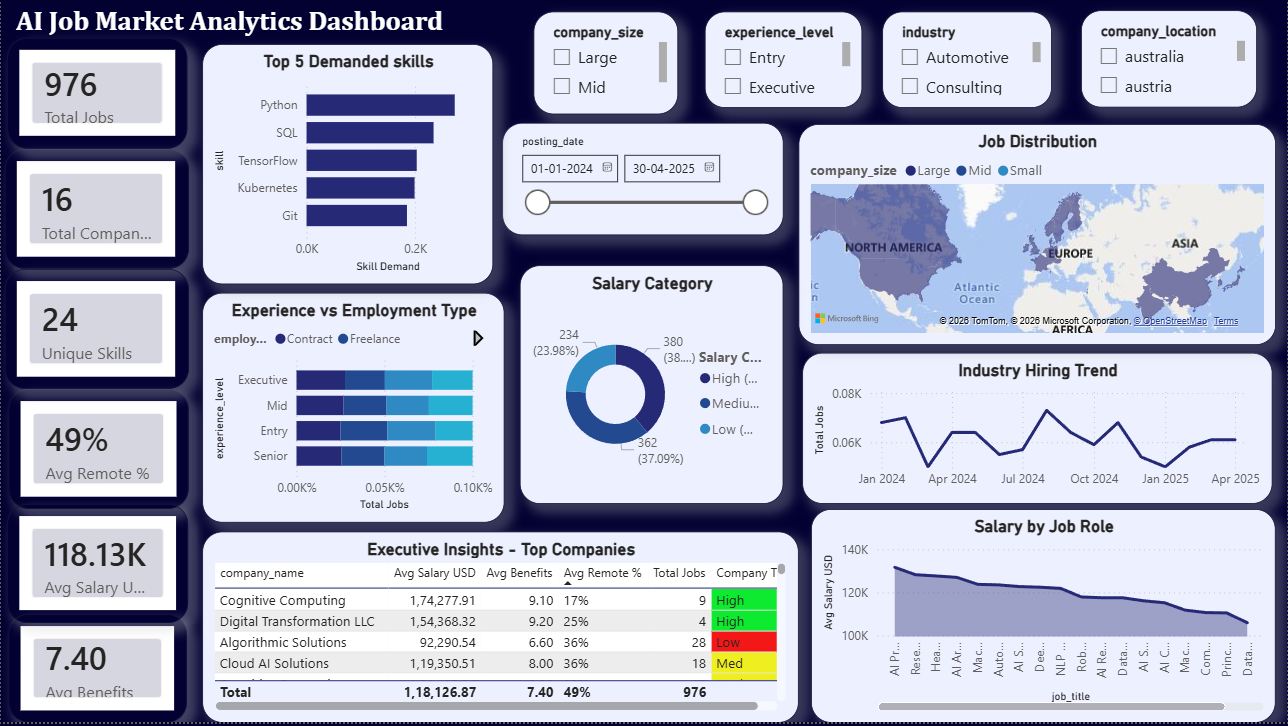

The page's visual inventory and layout, read from the dashboard file:
{"tool":"powerbi","page":{"name":"Page 3","canvas":[1280,720],"ordinal":2},"visuals":[{"type":"textbox","box":[10,0,520,45],"z":0},{"type":"cardVisual","fields":{"Data":["job_market cleaned_jobs.Avg Remote %"]},"box":[7.5,388.1,179.1,119.4],"z":1000},{"type":"cardVisual","fields":{"Data":["job_market cleaned_jobs.Avg Benefits"]},"box":[7.5,612,177.9,108.2],"z":2000},{"type":"cardVisual","fields":{"Data":["job_market cleaned_jobs.Total Companies"]},"box":[3.7,149.3,182.9,119.4],"z":3000},{"type":"cardVisual","fields":{"Data":["job_market cleaned_jobs.Avg Salary USD"]},"box":[6.2,502.6,180.4,118.2],"z":4000},{"type":"cardVisual","fields":{"Data":["job_market cleaned_jobs.Unique Skills"]},"box":[3.7,268.7,182.9,119.4],"z":5000},{"type":"cardVisual","fields":{"Data":["job_market cleaned_jobs.Total Jobs"]},"box":[6.2,38.6,179.1,110.7],"z":6000},{"type":"slicer","fields":{"Values":["job_market dim_location.company_location"]},"box":[1074.8,11.2,175.4,97],"z":7000},{"type":"slicer","fields":{"Values":["job_market dim_job.experience_level"]},"box":[700.3,12.4,156.7,95.8],"z":8000},{"type":"slicer","fields":{"Values":["job_market dim_company.company_size"]},"box":[529.9,12.4,144.3,102],"z":9000},{"type":"slicer","fields":{"Values":["job_market dim_company.industry"]},"box":[877,12.4,169.2,95.8],"z":10000},{"type":"slicer","fields":{"Values":["job_market fact_job_postings.posting_date"]},"box":[498.8,123.2,279.9,112],"z":11000},{"type":"lineChart","title":"Industry Hiring Trend","fields":{"Y":["job_market cleaned_jobs.Total Jobs"],"Category":["job_market cleaned_jobs.posting_date.Variation.Date Hierarchy.Year","job_market cleaned_jobs.posting_date.Variation.Date Hierarchy.Quarter","job_market cleaned_jobs.posting_date.Variation.Date Hierarchy.Month","job_market cleaned_jobs.posting_date.Variation.Date Hierarchy.Day"]},"box":[797.4,352,467.7,150.5],"z":12000},{"type":"hundredPercentStackedBarChart","title":"Experience vs Employment Type","fields":{"Category":["job_market dim_job.experience_level"],"Y":["job_market cleaned_jobs.Total Jobs"],"Series":["job_market cleaned_jobs.employment_type"]},"box":[200.3,292.3,301,228.9],"z":13000},{"type":"filledMap","title":"Job Distribution","fields":{"Category":["job_market dim_location.company_location"],"Series":["job_market dim_company.company_size"]},"box":[793.6,124.4,475.2,220.2],"z":14000},{"type":"clusteredBarChart","title":"Top 5 Demanded skills","fields":{"Category":["job_market dim_skills.skill"],"Y":["job_market cleaned_jobs.Skill Demand"]},"box":[200.3,44.8,289.8,238.8],"z":15000},{"type":"tableEx","title":"Executive Insights - Top Companies","fields":{"Values":["job_market dim_company.company_name","job_market cleaned_jobs.Avg Salary USD","job_market cleaned_jobs.Avg Benefits","job_market cleaned_jobs.Avg Remote %","job_market cleaned_jobs.Total Jobs","job_market cleaned_jobs.Company Tier"]},"box":[200.3,529.9,593.4,190.3],"z":16000},{"type":"areaChart","title":"Salary by Job Role","fields":{"Y":["job_market cleaned_jobs.Avg Salary USD"],"Category":["job_market cleaned_jobs.job_title"]},"box":[806.1,507.5,462.8,212.7],"z":17000},{"type":"donutChart","title":"Salary Category","fields":{"Category":["job_market cleaned_jobs.Salary Category"],"Y":["job_market cleaned_jobs.Total Jobs"]},"box":[516.2,265,262.5,237.6],"z":18000}]}

Visuals, with their boxes in screenshot pixels (x1, y1, x2, y2), scaled from the page's 1280x720 canvas onto the 1288x726 screenshot:
textbox: detection(10, 0, 533, 45)
cardVisual - job_market cleaned_jobs.Avg Remote %: detection(8, 391, 188, 512)
cardVisual - job_market cleaned_jobs.Avg Benefits: detection(8, 617, 187, 725)
cardVisual - job_market cleaned_jobs.Total Companies: detection(4, 151, 188, 271)
cardVisual - job_market cleaned_jobs.Avg Salary USD: detection(6, 507, 188, 626)
cardVisual - job_market cleaned_jobs.Unique Skills: detection(4, 271, 188, 391)
cardVisual - job_market cleaned_jobs.Total Jobs: detection(6, 39, 186, 151)
slicer - job_market dim_location.company_location: detection(1082, 11, 1258, 109)
slicer - job_market dim_job.experience_level: detection(705, 13, 862, 109)
slicer - job_market dim_company.company_size: detection(533, 13, 678, 115)
slicer - job_market dim_company.industry: detection(882, 13, 1053, 109)
slicer - job_market fact_job_postings.posting_date: detection(502, 124, 784, 237)
"Industry Hiring Trend" lineChart: detection(802, 355, 1273, 507)
"Experience vs Employment Type" hundredPercentStackedBarChart: detection(202, 295, 504, 526)
"Job Distribution" filledMap: detection(799, 125, 1277, 347)
"Top 5 Demanded skills" clusteredBarChart: detection(202, 45, 493, 286)
"Executive Insights - Top Companies" tableEx: detection(202, 534, 799, 725)
"Salary by Job Role" areaChart: detection(811, 512, 1277, 725)
"Salary Category" donutChart: detection(519, 267, 784, 507)
